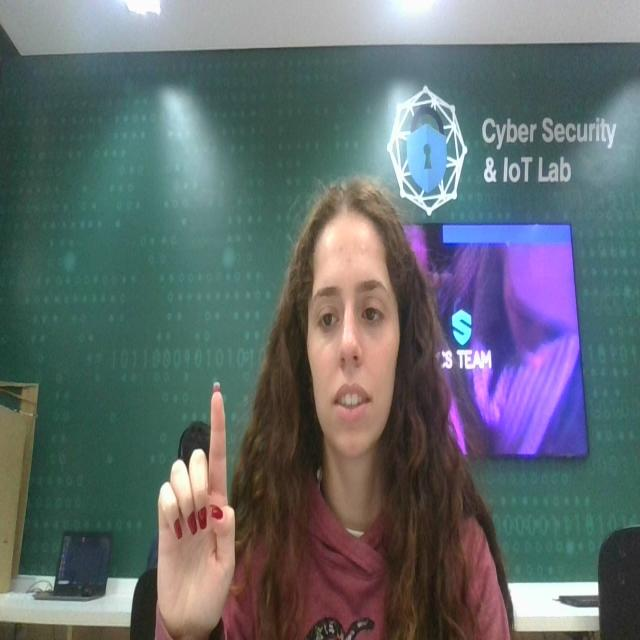D2: (155, 384, 246, 640)
